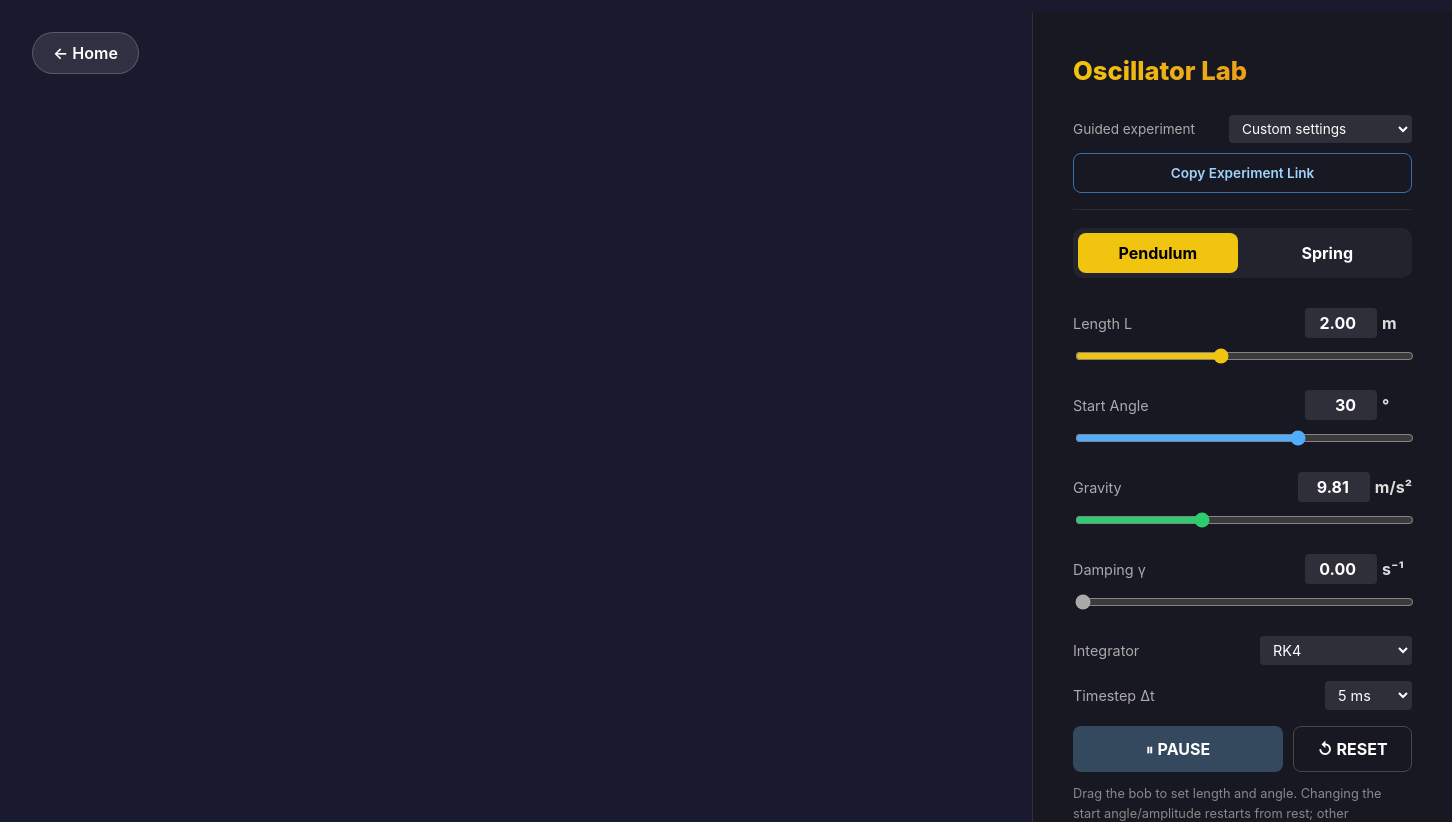
Oscillator Lab (SHM page) › switching to the spring swaps the controls and the drawing
This screenshot has width=1452, height=822.
Expected: the slider labelled "Length L" is shown, [1075,348,1414,364]
Click the button "Spring" at (1327, 253), box [1248,233,1407,273]
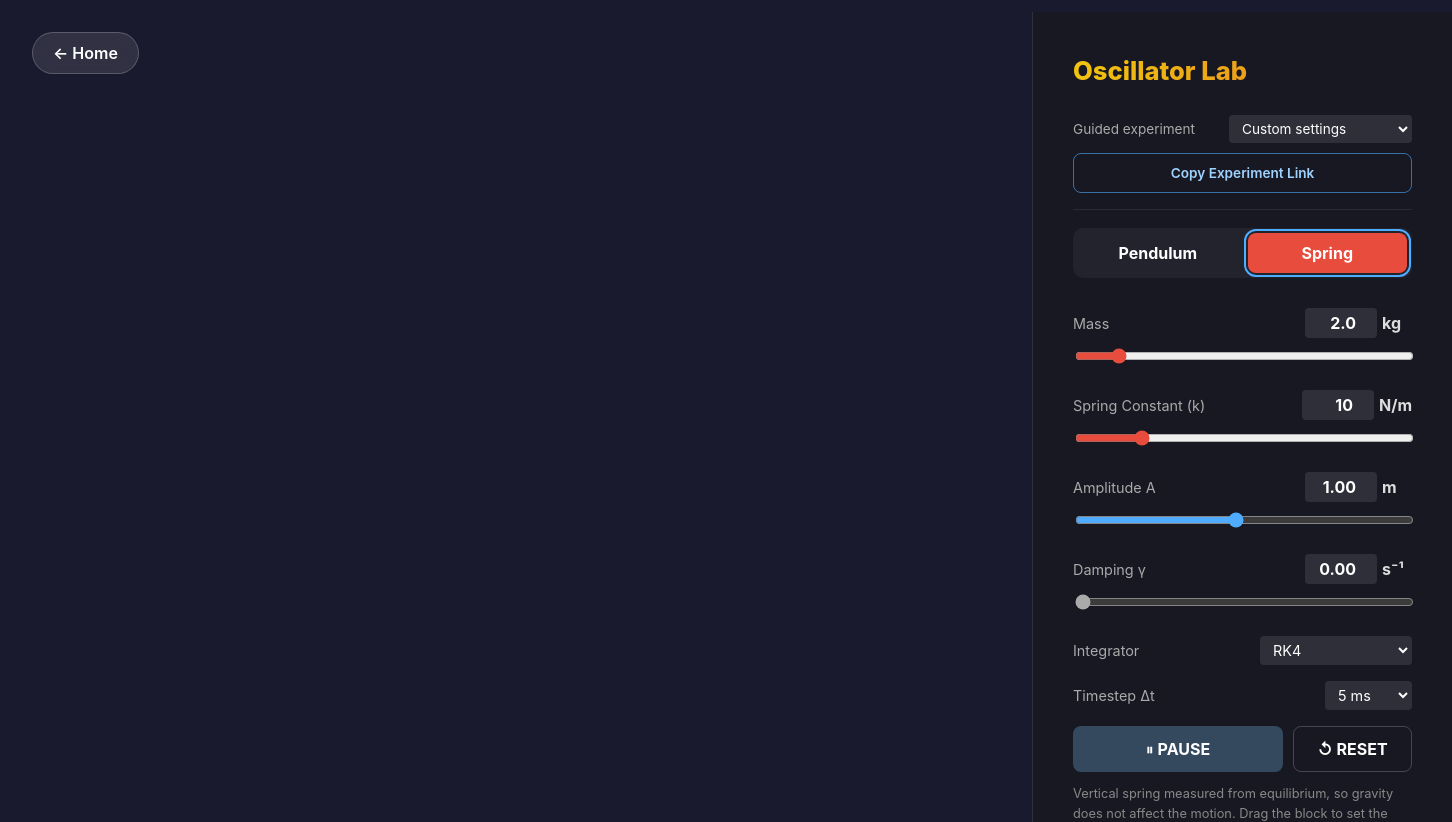
Expected: the slider labelled "Spring Constant (k)" is shown, [1075,430,1414,446]
Result: the label "Length" is gone
